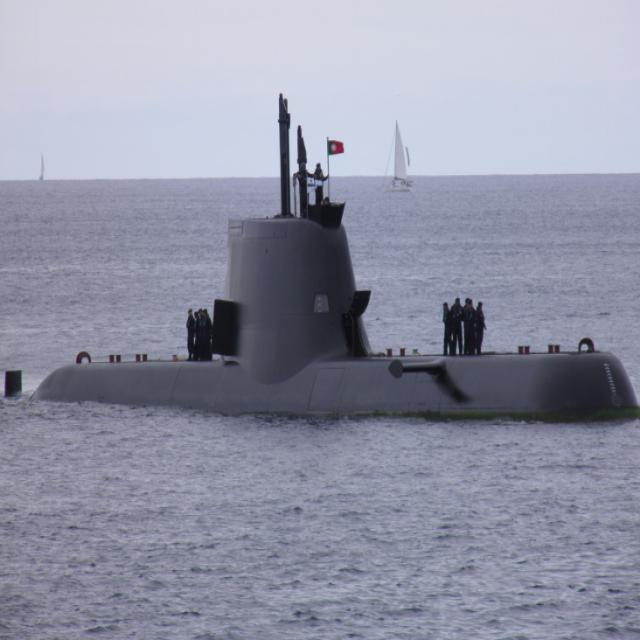submarine: (2, 80, 640, 405)
